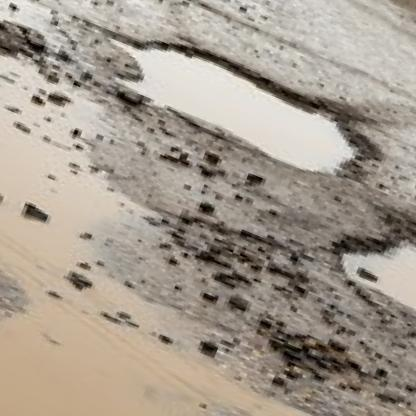pothole: (84, 10, 385, 194), (324, 199, 416, 349)
